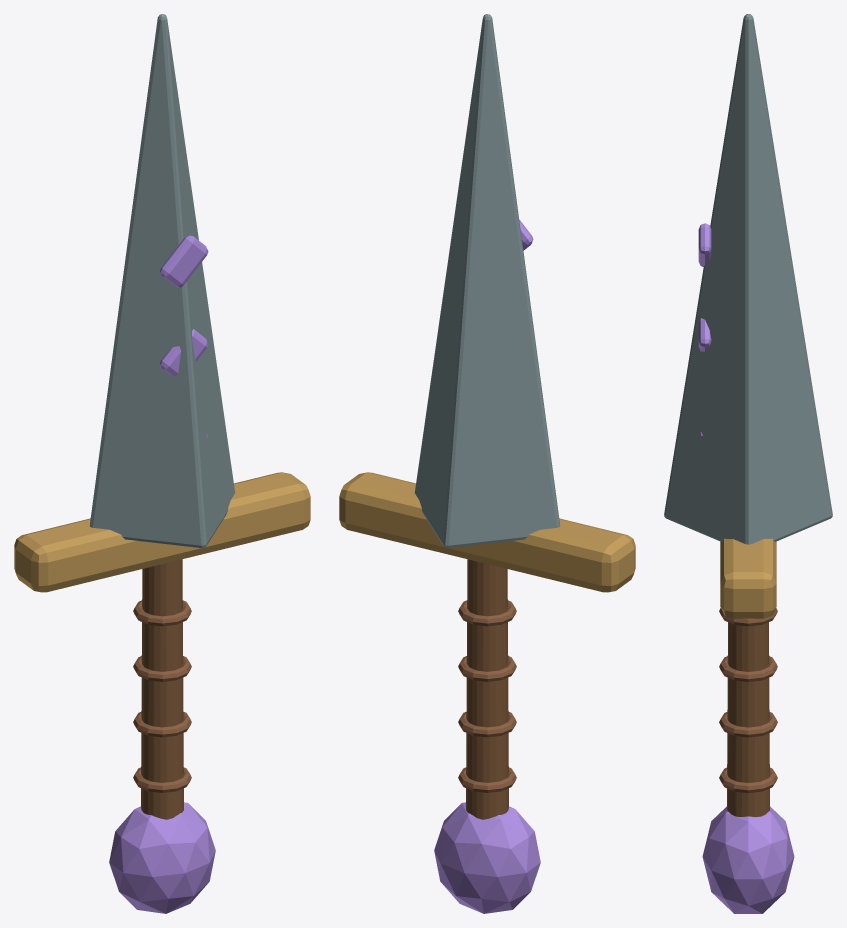
The model's file is weapon_runeblade.glb.
3 renders of one model, left to right at view 1: azimuth 30°, elevation 25°; view 2: azimuth 150°, elevation 25°; view 3: azimuth 270°, elevation 25°, orthographic.
Visible parts, largest first — view 1: RunicBlade, SweptGuard, BladeRune, WrappedHaft.004, GripBand.004; view 2: RunicBlade, SweptGuard, BladeRune, WrappedHaft.004, GripBand.004; view 3: RunicBlade, BladeRune, WrappedHaft.004, SweptGuard, GripBand.004.
Part boxes in pixels (x1,y1,x2,y2): RunicBlade: [89, 14, 235, 547]; SweptGuard: [14, 472, 310, 592]; BladeRune: [109, 235, 215, 913]; WrappedHaft.004: [141, 559, 183, 819]; GripBand.004: [133, 600, 191, 792]; RunicBlade: [414, 14, 560, 547]; SweptGuard: [339, 472, 635, 592]; BladeRune: [434, 220, 540, 913]; WrappedHaft.004: [466, 559, 508, 819]; GripBand.004: [458, 600, 516, 792]; RunicBlade: [664, 14, 832, 544]; BladeRune: [698, 223, 794, 913]; WrappedHaft.004: [727, 622, 769, 817]; SweptGuard: [720, 538, 776, 618]; GripBand.004: [719, 608, 777, 792].
Size of the model in its own units: 0.63 by 1.94 by 0.3305.
